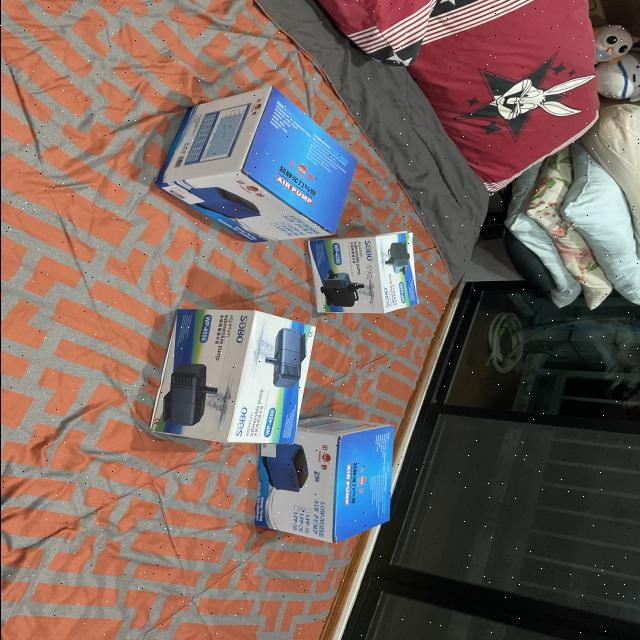SOBO_WP_4200: (125, 304, 322, 464), (301, 226, 423, 326)
YAMANO_LPP_20: (164, 81, 360, 252), (248, 410, 412, 554)
